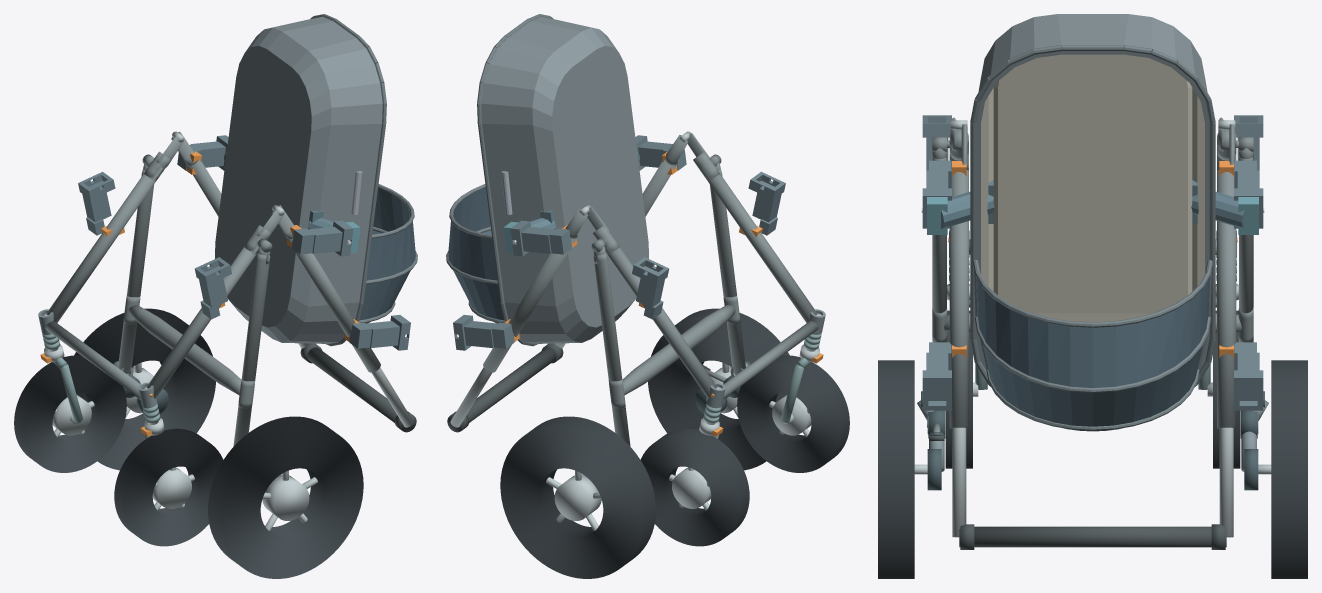
The model's file is S06_w550_state3_wheel_L.glb.
3 views of the same model, side by side, from view 1: azimuth 30°, elevation 25°; view 2: azimuth 150°, elevation 25°; view 3: azimuth 270°, elevation 25° (orthographic). The views are drawn at different scales.
Parts seen in each view (by area): view 1: S06_Cabin, RL_tire.002, FR_tire.002, FL_tire.002, RR_tire.002, main_lower_1.003, V46_rear_leg_-1.003, V46_rear_leg_1.003, V46_rearbar.003, main_lower_-1.003, main_upper_-1.003, round_handle.002 (+13 smaller); view 2: S06_Cabin, RR_tire.002, FL_tire.002, FR_tire.002, RL_tire.002, main_lower_-1.003, V46_rear_leg_1.003, V46_rear_leg_-1.003, V46_rearbar.003, main_lower_1.003, main_upper_1.003, round_handle.002 (+13 smaller); view 3: S06_Cabin, RL_tire.002, RR_tire.002, round_handle.002, main_upper_1.003, main_upper_-1.003, S06_Cabin_Mount_M, Universal_Cabin_Receiver_H_1, Universal_Cabin_Receiver_H_-1, handle_slider_1.002, handle_slider_-1.002, V46_rear_leg_-1.003 (+9 smaller).
Boxes of the visible parts, left/top/right/bottom form: S06_Cabin: left=215, top=14, right=417, bottom=346; RL_tire.002: left=208, top=416, right=363, bottom=578; FR_tire.002: left=14, top=355, right=126, bottom=472; FL_tire.002: left=114, top=428, right=223, bottom=546; RR_tire.002: left=74, top=308, right=215, bottom=470; main_lower_1.003: left=46, top=167, right=162, bottom=322; V46_rear_leg_-1.003: left=233, top=253, right=270, bottom=446; V46_rear_leg_1.003: left=118, top=169, right=153, bottom=373; V46_rearbar.003: left=128, top=305, right=241, bottom=394; main_lower_-1.003: left=147, top=246, right=258, bottom=398; main_upper_-1.003: left=287, top=238, right=380, bottom=372; round_handle.002: left=307, top=347, right=415, bottom=430; S06_Cabin: left=446, top=14, right=648, bottom=346; RR_tire.002: left=500, top=416, right=655, bottom=578; FL_tire.002: left=737, top=355, right=849, bottom=472; FR_tire.002: left=640, top=428, right=749, bottom=546; RL_tire.002: left=648, top=308, right=789, bottom=470; main_lower_-1.003: left=701, top=167, right=817, bottom=322; V46_rear_leg_1.003: left=593, top=253, right=630, bottom=446; V46_rear_leg_-1.003: left=710, top=169, right=745, bottom=373; V46_rearbar.003: left=622, top=305, right=735, bottom=394; main_lower_1.003: left=605, top=246, right=716, bottom=398; main_upper_1.003: left=483, top=238, right=576, bottom=372; round_handle.002: left=448, top=347, right=556, bottom=430; S06_Cabin: left=970, top=14, right=1215, bottom=431; RL_tire.002: left=878, top=360, right=914, bottom=578; RR_tire.002: left=1271, top=360, right=1307, bottom=578; round_handle.002: left=959, top=526, right=1226, bottom=547; main_upper_1.003: left=1217, top=170, right=1236, bottom=428; main_upper_-1.003: left=949, top=170, right=968, bottom=428; S06_Cabin_Mount_M: left=921, top=180, right=1264, bottom=234; Universal_Cabin_Receiver_H_1: left=1234, top=342, right=1263, bottom=410; Universal_Cabin_Receiver_H_-1: left=922, top=342, right=951, bottom=410; handle_slider_1.002: left=1219, top=427, right=1233, bottom=537; handle_slider_-1.002: left=952, top=427, right=966, bottom=537; V46_rear_leg_-1.003: left=932, top=157, right=946, bottom=342.
Size of the model in its own units: 0.8578 by 1.11 by 0.7071.
